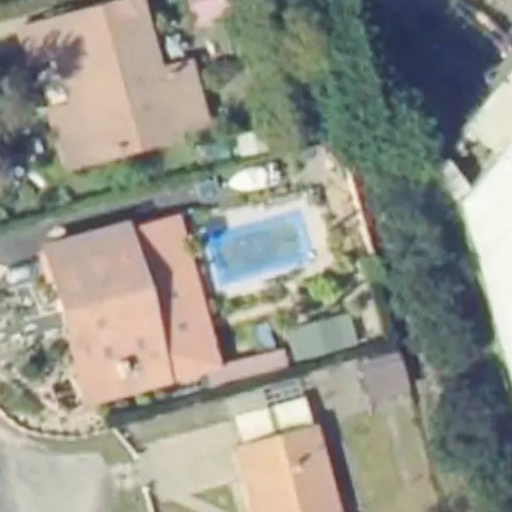pool: (200, 229, 311, 253)
